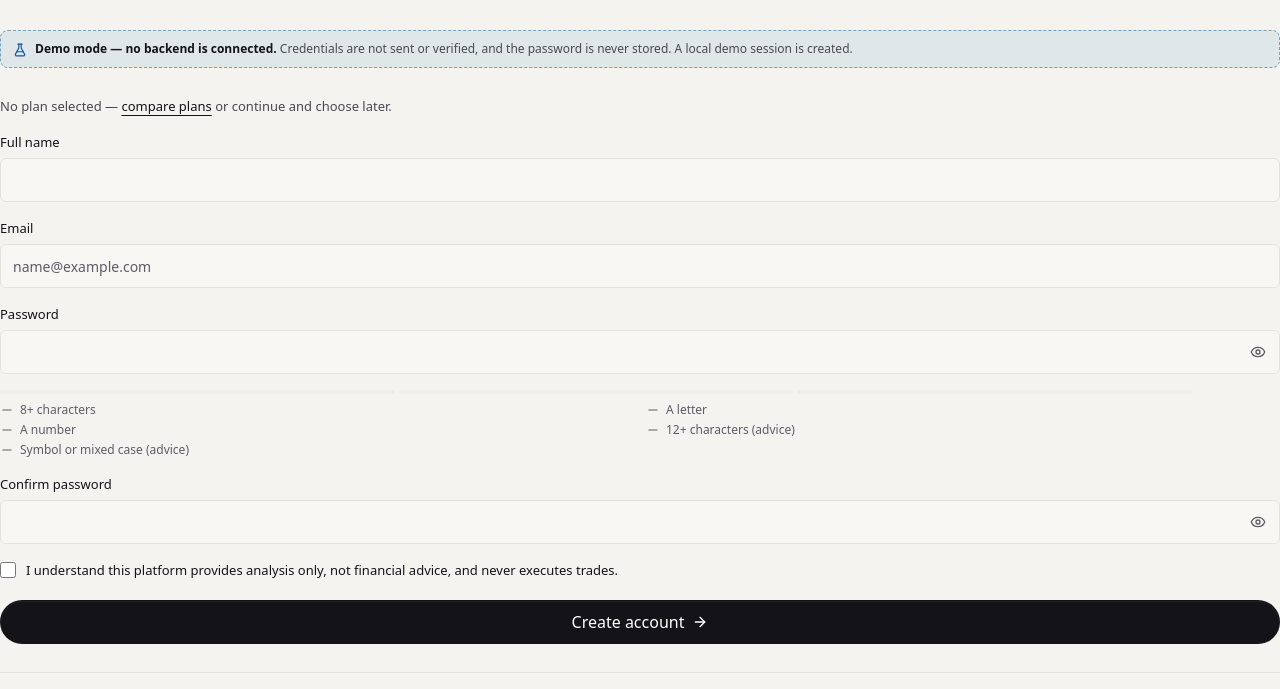
Test: registration with a selected plan › validates the form before submitting
The image size is (1280, 689).
(page scrolled)
Step 1. Click the button "Create account" → coordinates (640, 622), box [0,600,1279,644]
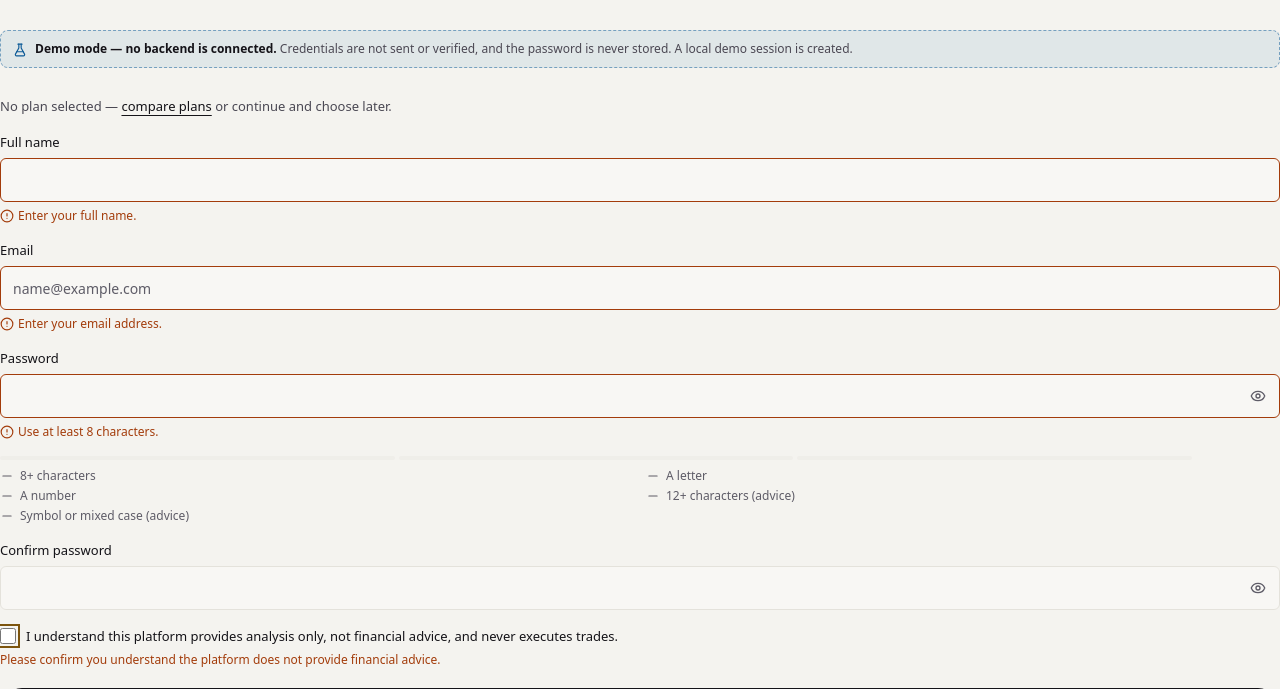
Check: the text "Enter your full name." is shown, box [0,207,136,224]
Check: the text "Use at least 8 characters." is shown, box [0,423,158,440]
